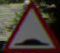Speed Breaker ahead: (4, 2, 52, 45)
